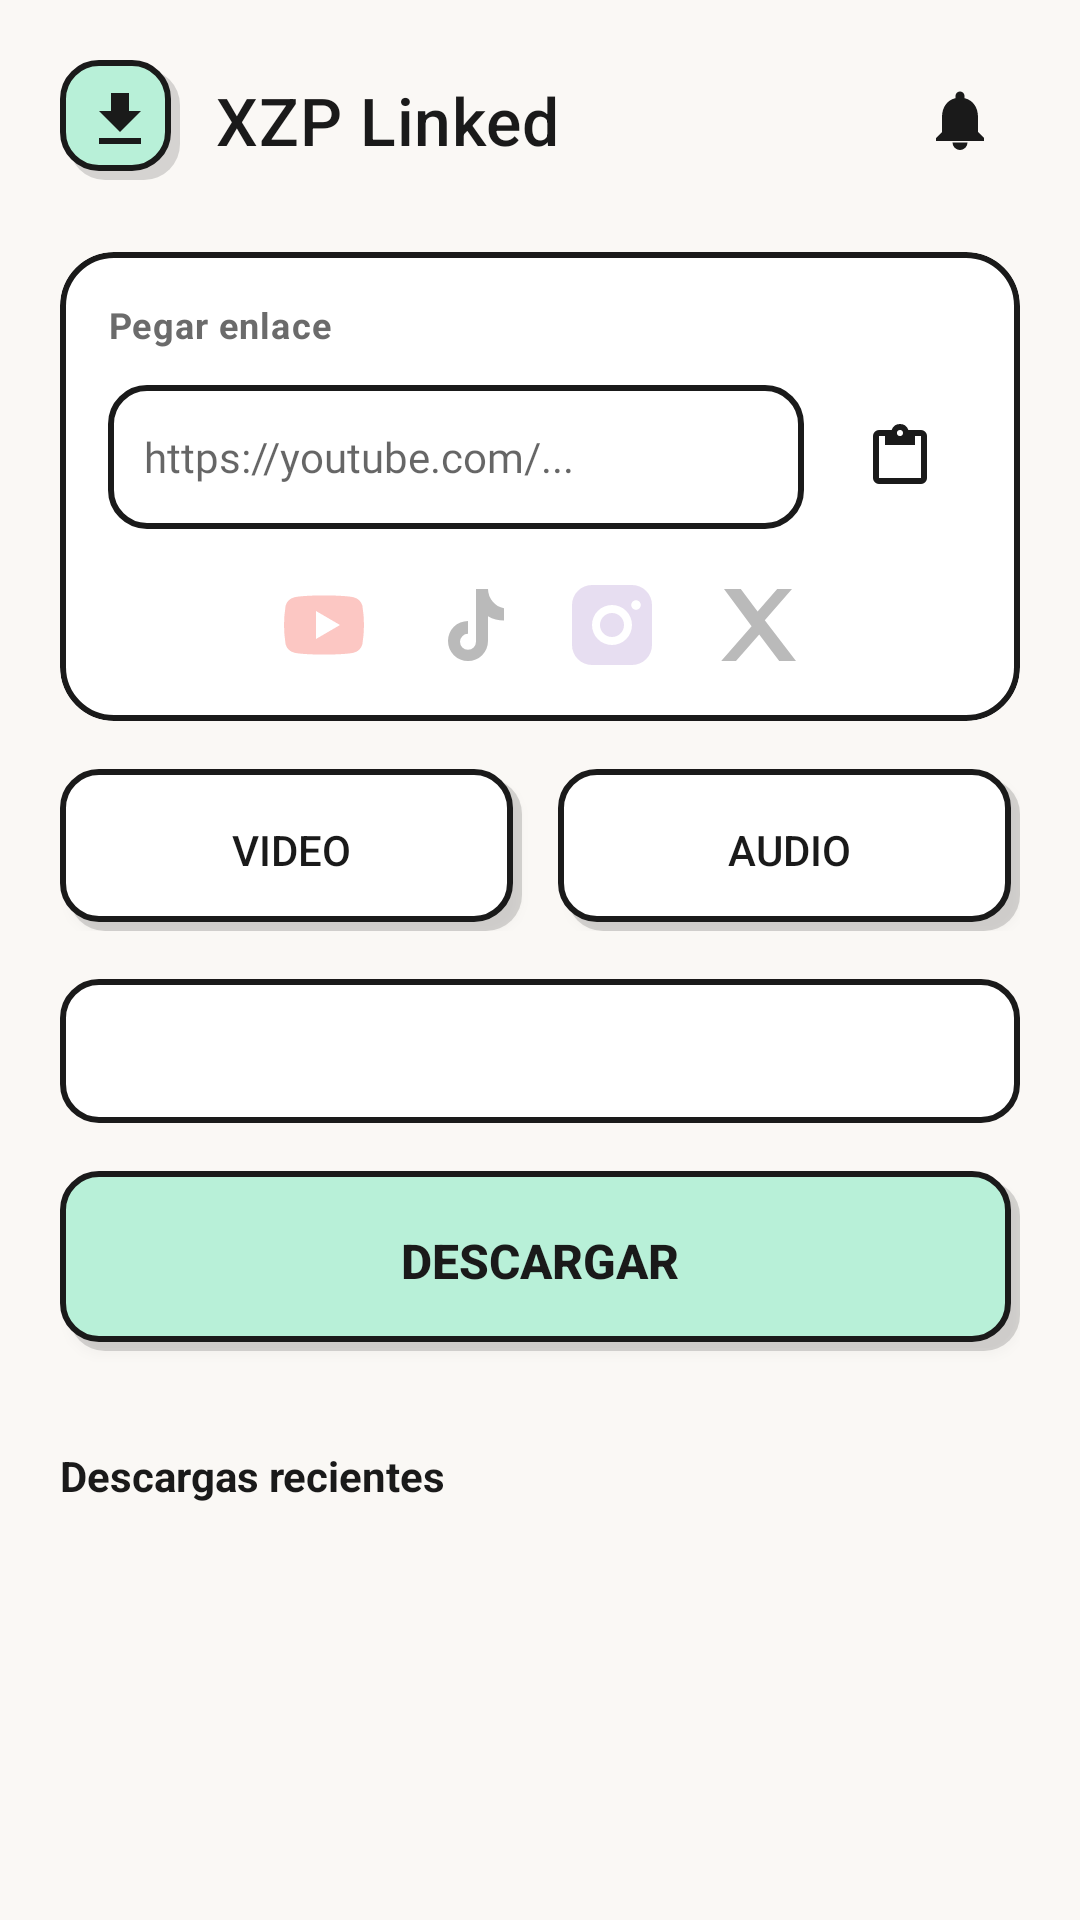

Where to tap for icons on this 1080*1920 app screen, as point (x, y):
download: point (120, 118)
notifications: point (960, 120)
paste: point (900, 454)
